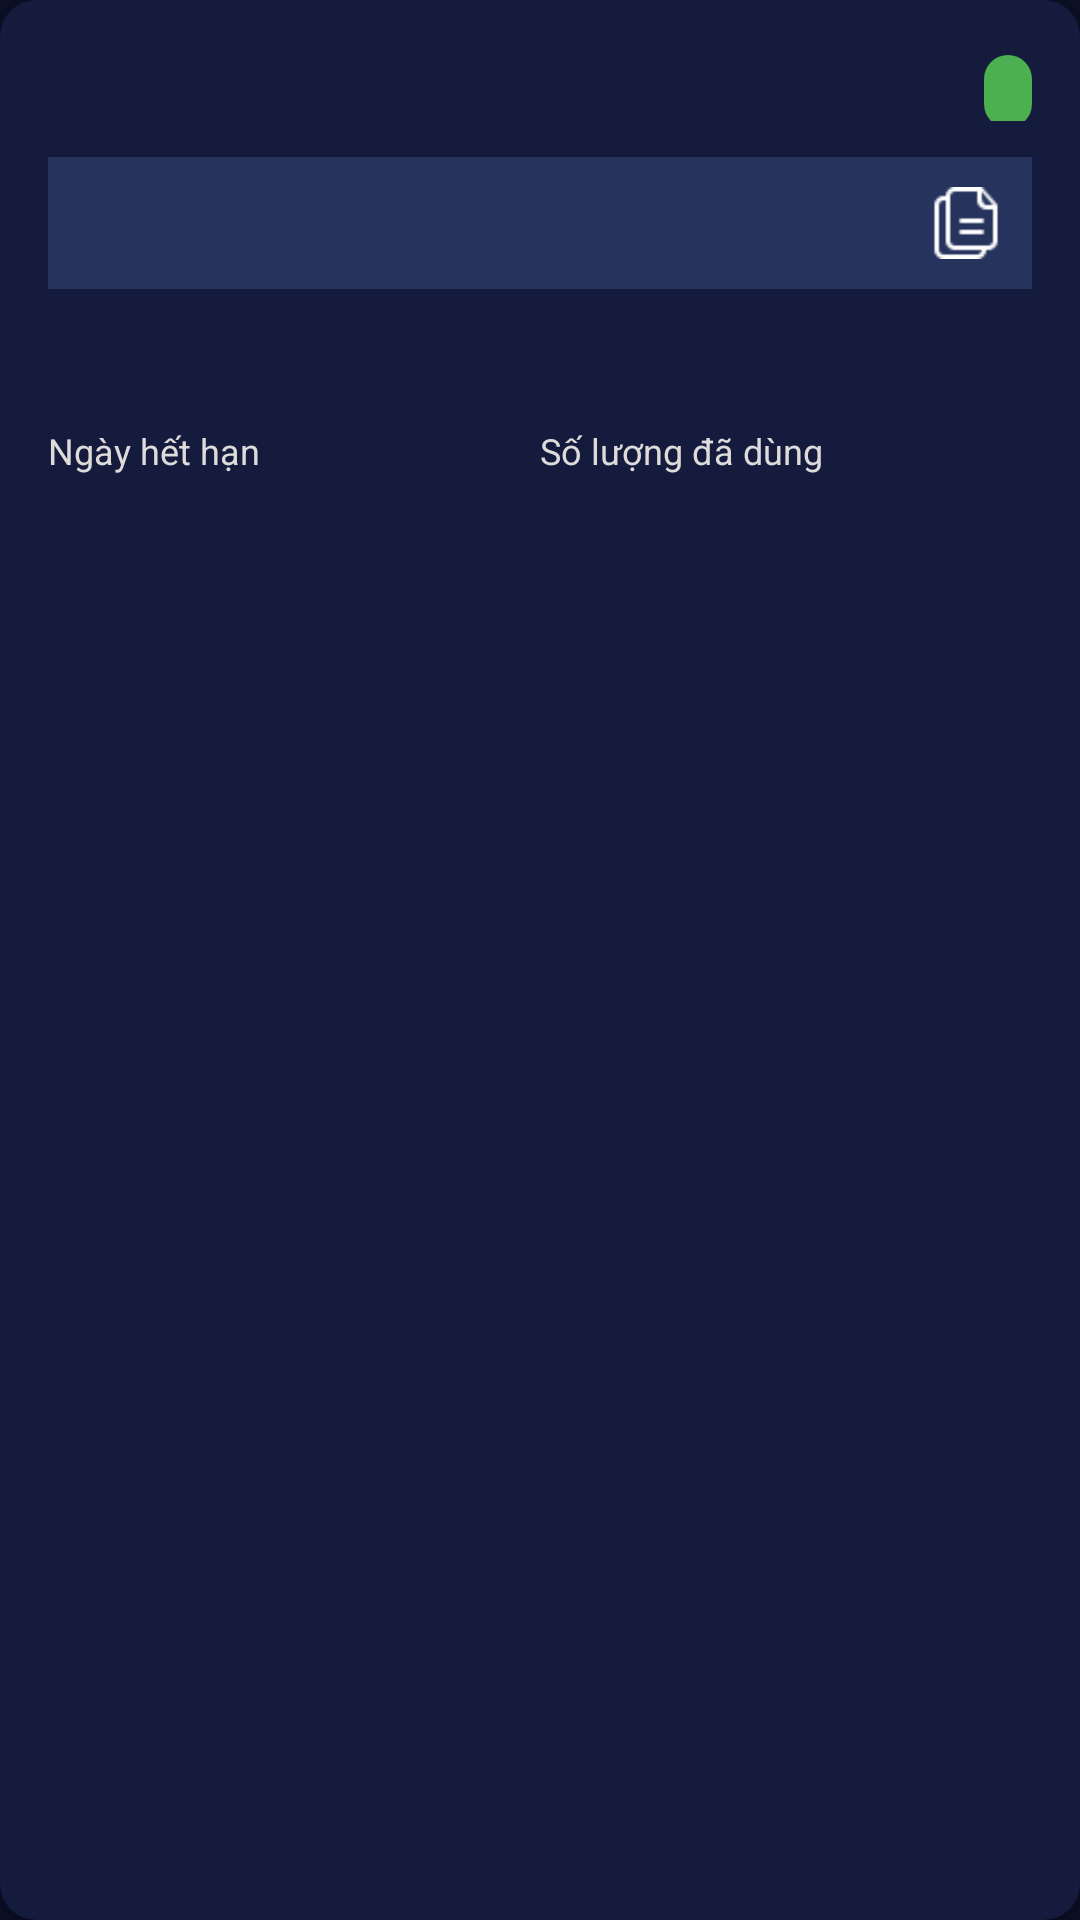

Screen size 1080 × 1920. Icon name, then its box in pixels as (x1, y1, x2, y2):
Copy code: (934, 187, 998, 259)
